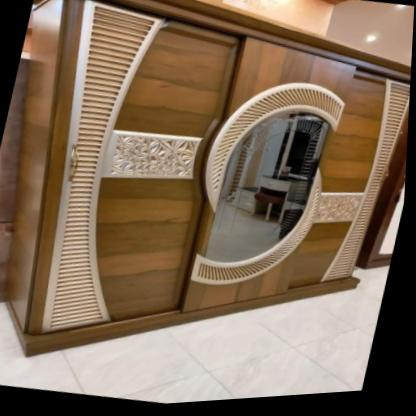Ceramic floor: (0, 272, 392, 406)
Closet: (25, 0, 412, 357)
